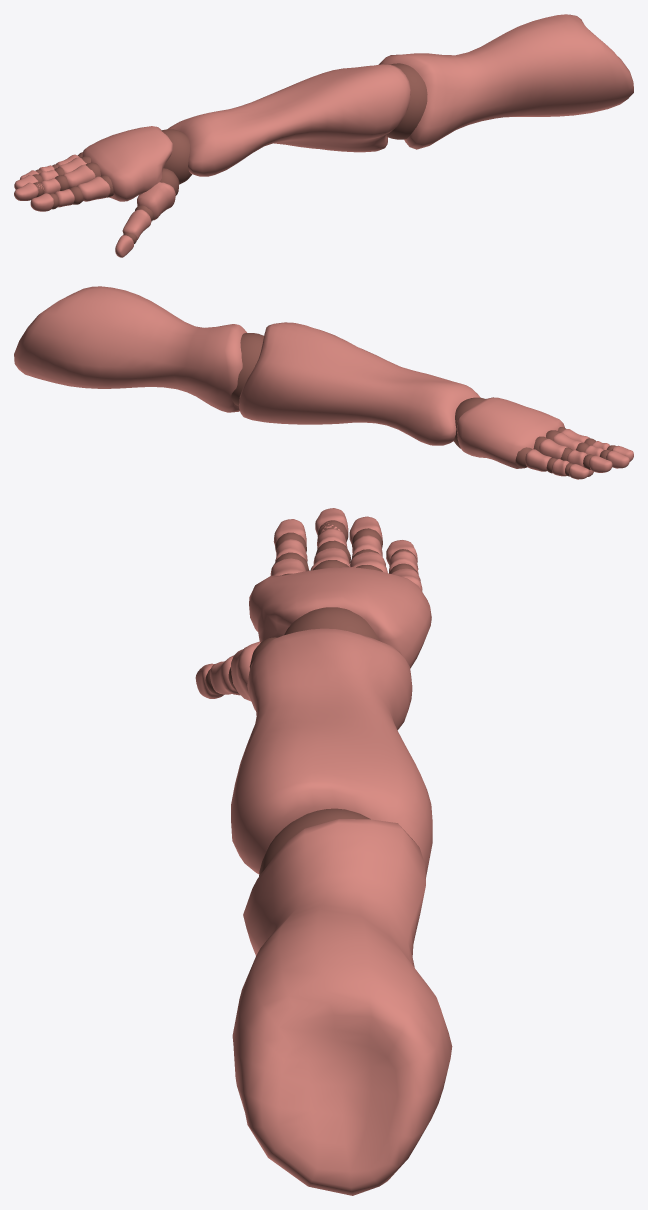
Rendered from xbotrighthand.fbx.
3 renders of one model, top to bottom at view 1: azimuth 30°, elevation 25°; view 2: azimuth 150°, elevation 25°; view 3: azimuth 270°, elevation 25°, orthographic. The views are drawn at different scales.
Parts seen in each view (by area): view 1: Beta_Surface, Beta_Joints; view 2: Beta_Surface, Beta_Joints; view 3: Beta_Surface, Beta_Joints.
Boxes of the visible parts, bbox=[...] form: Beta_Surface: bbox=[14, 14, 633, 257]; Beta_Joints: bbox=[32, 63, 427, 243]; Beta_Surface: bbox=[14, 286, 633, 479]; Beta_Joints: bbox=[231, 333, 615, 476]; Beta_Surface: bbox=[195, 508, 452, 1195]; Beta_Joints: bbox=[205, 520, 417, 876].
Size of the model in its own units: 74.78 by 11.94 by 13.86.
